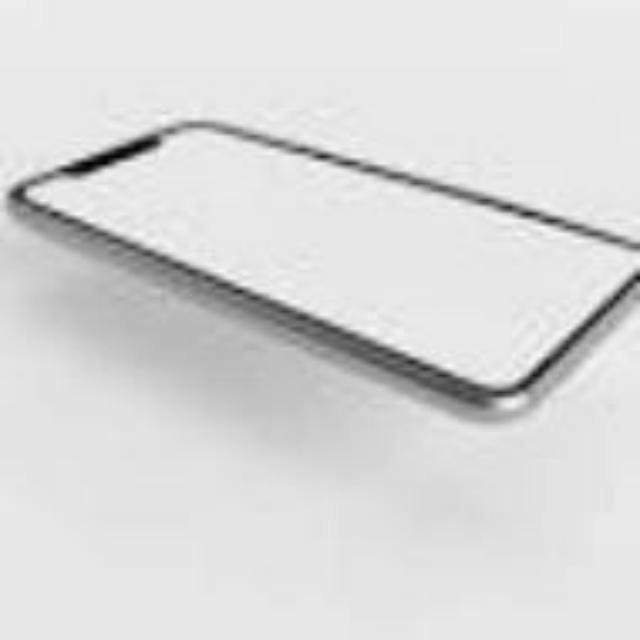fake: (6, 60, 636, 436)
